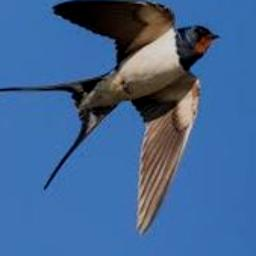Swallow: (0, 0, 220, 233)
